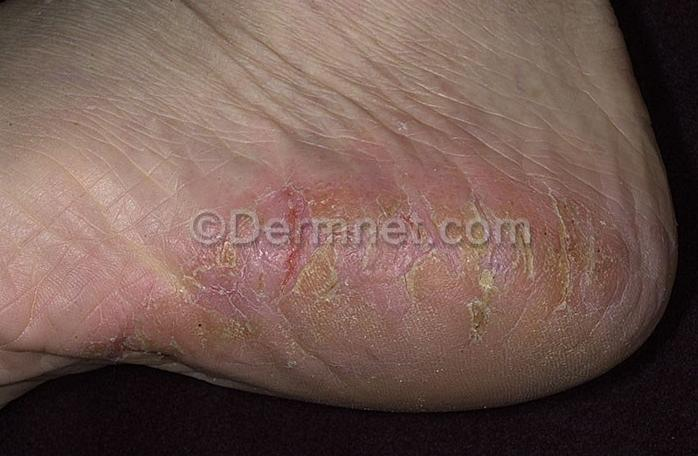Eritema 2: (184, 198, 546, 316)
exudacion 1: (276, 205, 303, 286)
liquenificacion 1: (0, 131, 255, 352)
xerosis 3: (108, 182, 642, 395)
